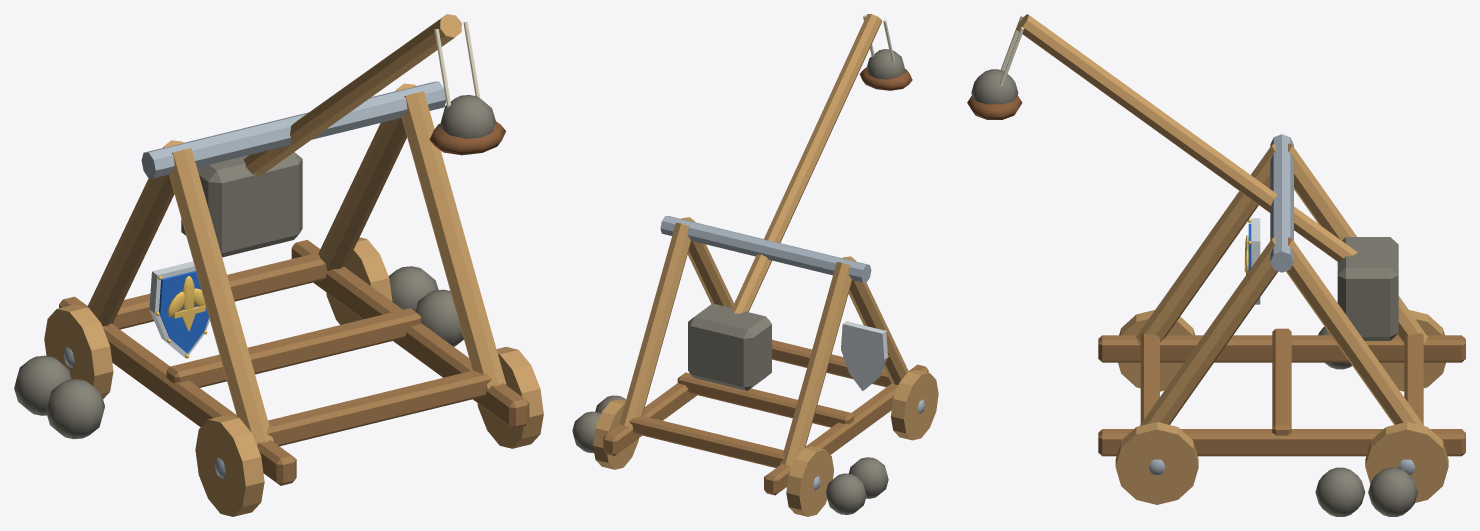
The model's file is unit_trebuchet_blue.glb.
The picture shows the model from 3 angles, left to right: view 1: azimuth 30°, elevation 25°; view 2: azimuth 150°, elevation 25°; view 3: azimuth 270°, elevation 25°; orthographic projection. The views are drawn at different scales.
Parts seen in each view (by area): view 1: unit_trebuchet_blue; view 2: unit_trebuchet_blue; view 3: unit_trebuchet_blue.
Part boxes in pixels (bbox=[...]): unit_trebuchet_blue: bbox=[14, 14, 543, 516]; unit_trebuchet_blue: bbox=[572, 14, 938, 516]; unit_trebuchet_blue: bbox=[967, 14, 1465, 516].
Size of the model in its own units: 2.86 by 3.42 by 3.6.
